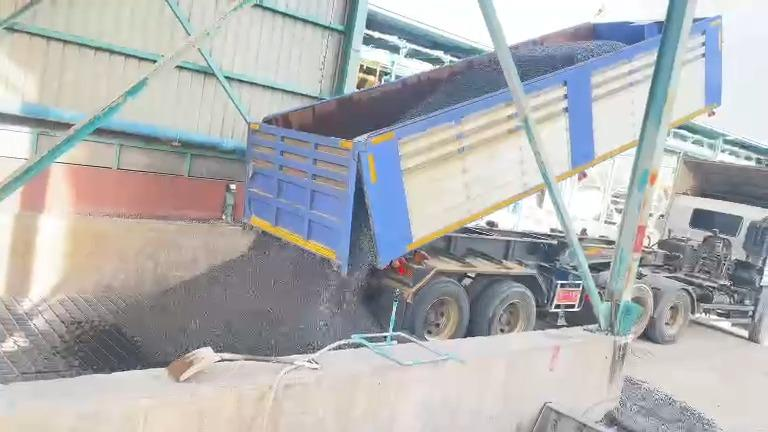gravel: (125, 234, 379, 359), (400, 56, 505, 120), (608, 376, 721, 431), (511, 41, 625, 81), (347, 189, 376, 278)
